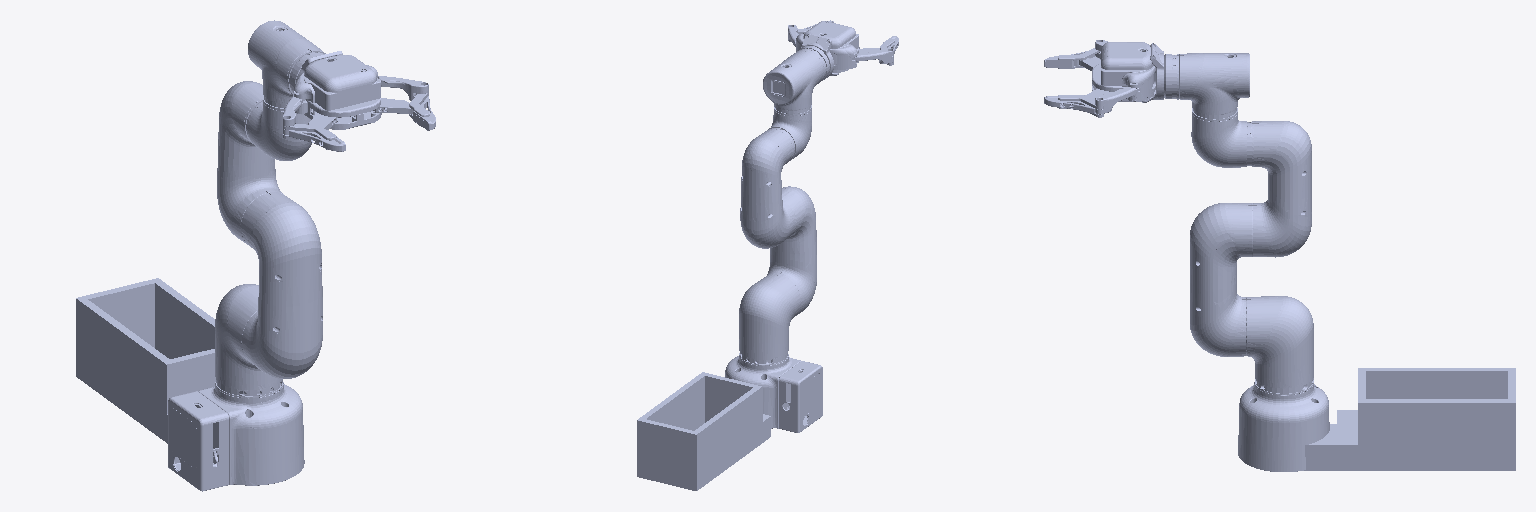
--- Facts derived from the render (not from the file) ---
The picture shows the robot from 3 angles, left to right: view 1: azimuth 30°, elevation 25°; view 2: azimuth 150°, elevation 25°; view 3: azimuth 270°, elevation 25°; orthographic projection.
Robot: firefighter — 14 links, 13 joints (12 revolute, 1 fixed); root link base; default pose: all joints at 0.
Links seen in each view (by area): view 1: base, link2, link3, gripper_base, link1, link5, link4, gripper_right1, gripper_left1, gripper_left2; view 2: base, link3, link1, link2, link5, gripper_base, link4; view 3: base, link2, link3, link1, link5, gripper_base, link4, gripper_left1, link6, gripper_right1, gripper_left2.
Boxes of the visible links, x1,y1,x2,y2 form: base: (76,278,304,491); link2: (241,192,322,378); link3: (217,81,283,244); gripper_base: (294,51,381,129); link1: (215,284,283,397); link5: (248,20,322,110); link4: (244,99,311,160); gripper_right1: (283,124,345,151); gripper_left1: (409,92,435,130); gripper_left2: (378,76,428,100); base: (637,356,822,490); link3: (740,129,795,248); link1: (739,274,800,365); link2: (767,186,816,315); link5: (763,50,823,115); gripper_base: (796,21,859,79); link4: (768,110,811,160); base: (1238,368,1515,471); link2: (1190,203,1252,356); link3: (1253,121,1311,257); link1: (1246,296,1313,394); link5: (1179,53,1249,121); gripper_base: (1092,42,1163,102); link4: (1191,114,1253,167); gripper_left1: (1044,95,1103,117); link6: (1164,54,1178,99); gripper_right1: (1044,48,1100,68); gripper_left2: (1095,87,1139,114).
Size in the robot's own frame: 0.1838 by 0.597 by 0.5642 metres.
Meshes: 14 distinct files referenced, 14 mesh visuals loaded (14 binary STL).

The robot description file, URDF, robot "firefighter":
<?xml version="1.0" encoding="utf-8" ?>
<!-- This URDF was automatically created by SolidWorks to URDF Exporter! Originally created by Stephen Brawner ([email redacted]) 
     Commit Version: 1.6.0-4-g7f85cfe  Build Version: 1.6.7995.38578
     For more information, please see http://wiki.ros.org/sw_urdf_exporter -->
<robot name="firefighter">
    <link name="base">
        <inertial>
            <origin xyz="-0.00864769316998017 -0.000126921894666568 0.0501201845931417" rpy="0 0 0" />
            <mass value="0.569705987965091" />
            <inertia ixx="0.000854432594096124" ixy="-7.93241309123687E-08" ixz="2.27885992319387E-05" iyy="0.000773078438855188" iyz="-1.68198685336369E-07" izz="0.000636475137447579" />
        </inertial>
        <visual>
            <origin xyz="0 0 0" rpy="0 0 0" />
            <geometry>
                <mesh filename="package://mycobot_description/meshes/base.STL" />
            </geometry>
            <material name="">
                <color rgba="0.792156862745098 0.819607843137255 0.933333333333333 1" />
            </material>
        </visual>
        <collision>
            <origin xyz="0 0 0" rpy="0 0 0" />
            <geometry>
                <mesh filename="package://mycobot_description/meshes/base.STL" />
            </geometry>
        </collision>
    </link>
    <link name="link1">
        <inertial>
            <origin xyz="6.42815852598767E-05 -0.0230239649053972 0.0693818276658632" rpy="0 0 0" />
            <mass value="0.301879423847794" />
            <inertia ixx="0.000409306626425588" ixy="2.64185243073395E-07" ixz="-3.05907154997551E-07" iyy="0.000350087269557055" iyz="5.69642041944812E-05" izz="0.000305846033387801" />
        </inertial>
        <visual>
            <origin xyz="0 0 0" rpy="0 0 0" />
            <geometry>
                <mesh filename="package://mycobot_description/meshes/link1.STL" />
            </geometry>
            <material name="">
                <color rgba="0.792156862745098 0.819607843137255 0.933333333333333 1" />
            </material>
        </visual>
        <collision>
            <origin xyz="0 0 0" rpy="0 0 0" />
            <geometry>
                <mesh filename="package://mycobot_description/meshes/link1.STL" />
            </geometry>
        </collision>
    </link>
    <joint name="joint2_to_joint1" type="revolute">
        <origin xyz="0 4.6911E-05 0.0967" rpy="0 0 0" />
        <parent link="base" />
        <child link="link1" />
        <axis xyz="0 0 1" />
        <limit lower="-2.79" upper="2.77" effort="1000" velocity="0" />
    </joint>
    <link name="link2">
        <inertial>
            <origin xyz="-3.8732097148434E-05 0.0813802127869527 0.0283592858310464" rpy="0 0 0" />
            <mass value="0.369827129518453" />
            <inertia ixx="0.00136957228770117" ixy="4.19538544428881E-07" ixz="3.17080019656995E-07" iyy="0.000219952916069171" iyz="0.000122748887363012" izz="0.00143836506882387" />
        </inertial>
        <visual>
            <origin xyz="0 0 0" rpy="0 0 0" />
            <geometry>
                <mesh filename="package://mycobot_description/meshes/link2.STL" />
            </geometry>
            <material name="">
                <color rgba="0.792156862745098 0.819607843137255 0.933333333333333 1" />
            </material>
        </visual>
        <collision>
            <origin xyz="0 0 0" rpy="0 0 0" />
            <geometry>
                <mesh filename="package://mycobot_description/meshes/link2.STL" />
            </geometry>
        </collision>
    </link>
    <joint name="joint3_to_joint2" type="revolute">
        <origin xyz="0 -0.048047 0.078684" rpy="1.5708 0 0" />
        <parent link="link1" />
        <child link="link2" />
        <axis xyz="0 0 1" />
        <limit lower="-2.79" upper="2.77" effort="1000" velocity="0" />
    </joint>
    <link name="link3">
        <inertial>
            <origin xyz="0.000129635471397599 -0.0514280884168447 0.0325289693692355" rpy="0 0 0" />
            <mass value="0.30126647543849" />
            <inertia ixx="0.000970409527348005" ixy="2.55329347120903E-06" ixz="7.42273996540422E-08" iyy="0.000146256008435835" iyz="9.03013147250893E-06" izz="0.00101269568666445" />
        </inertial>
        <visual>
            <origin xyz="0 0 0" rpy="0 0 0" />
            <geometry>
                <mesh filename="package://mycobot_description/meshes/link3.STL" />
            </geometry>
            <material name="">
                <color rgba="0.792156862745098 0.819607843137255 0.933333333333333 1" />
            </material>
        </visual>
        <collision>
            <origin xyz="0 0 0" rpy="0 0 0" />
            <geometry>
                <mesh filename="package://mycobot_description/meshes/link3.STL" />
            </geometry>
        </collision>
    </link>
    <joint name="joint4_to_joint3" type="revolute">
        <origin xyz="0 0.13484 -0.00812" rpy="3.1416 0 0" />
        <parent link="link2" />
        <child link="link3" />
        <axis xyz="0 0 -1" />
        <limit lower="-2.79" upper="2.77" effort="1000" velocity="0" />
    </joint>
    <link name="link4">
        <inertial>
            <origin xyz="-0.000265442246032262 0.0132454430927216 0.0353293831856391" rpy="0 0 0" />
            <mass value="0.13863929662837" />
            <inertia ixx="0.000124610417603017" ixy="4.88764159313975E-08" ixz="4.93244209868399E-07" iyy="0.00010305423584359" iyz="-2.74497950589119E-05" izz="9.07985514470042E-05" />
        </inertial>
        <visual>
            <origin xyz="0 0 0" rpy="0 0 0" />
            <geometry>
                <mesh filename="package://mycobot_description/meshes/link4.STL" />
            </geometry>
            <material name="">
                <color rgba="0.792156862745098 0.819607843137255 0.933333333333333 1" />
            </material>
        </visual>
        <collision>
            <origin xyz="0 0 0" rpy="0 0 0" />
            <geometry>
                <mesh filename="package://mycobot_description/meshes/link4.STL" />
            </geometry>
        </collision>
    </link>
    <joint name="joint5_to_joint4" type="revolute">
        <origin xyz="0 -0.12001 0.0019" rpy="3.1416 0 0" />
        <parent link="link3" />
        <child link="link4" />
        <axis xyz="0 0 1" />
        <limit lower="-2.79" upper="2.77" effort="1000" velocity="0" />
    </joint>
    <link name="link5">
        <inertial>
            <origin xyz="2.9396531990803E-06 -0.00706335171774512 0.0410111456222784" rpy="0 0 0" />
            <mass value="0.223950798436051" />
            <inertia ixx="0.000190772660755612" ixy="-1.55601593022745E-08" ixz="1.18753345947016E-08" iyy="0.000150100995863217" iyz="1.22311889040458E-05" izz="0.000145172983097813" />
        </inertial>
        <visual>
            <origin xyz="0 0 0" rpy="0 0 0" />
            <geometry>
                <mesh filename="package://mycobot_description/meshes/link5.STL" />
            </geometry>
            <material name="">
                <color rgba="0.792156862745098 0.819607843137255 0.933333333333333 1" />
            </material>
        </visual>
        <collision>
            <origin xyz="0 0 0" rpy="0 0 0" />
            <geometry>
                <mesh filename="package://mycobot_description/meshes/link5.STL" />
            </geometry>
        </collision>
    </link>
    <joint name="joint6_to_joint5" type="revolute">
        <origin xyz="0 0.045161 0.049475" rpy="-1.5708 0 0" />
        <parent link="link4" />
        <child link="link5" />
        <axis xyz="0 0 1" />
        <limit lower="-2.79" upper="2.77" effort="1000" velocity="0" />
    </joint>
    <link name="link6">
        <inertial>
            <origin xyz="-5.28728390771817E-08 -0.0101993384758529 6.2341436382507E-05" rpy="0 0 0" />
            <mass value="0.0401030543253865" />
            <inertia ixx="9.67629236940541E-06" ixy="1.09152050946117E-12" ixz="-1.32278192660942E-10" iyy="1.75125666482583E-05" iyz="-2.04538907434154E-08" izz="9.81088755486916E-06" />
        </inertial>
        <visual>
            <origin xyz="0 0 0" rpy="0 0 0" />
            <geometry>
                <mesh filename="package://mycobot_description/meshes/link6.STL" />
            </geometry>
            <material name="">
                <color rgba="0.792156862745098 0.819607843137255 0.933333333333333 1" />
            </material>
        </visual>
        <collision>
            <origin xyz="0 0 0" rpy="0 0 0" />
            <geometry>
                <mesh filename="package://mycobot_description/meshes/link6.STL" />
            </geometry>
        </collision>
    </link>
    <joint name="joint6output_to_joint6" type="revolute">
        <origin xyz="0 -0.045225 0.049538" rpy="0 0 0" />
        <parent link="link5" />
        <child link="link6" />
        <axis xyz="0 -1 0" />
        <limit lower="-2.79" upper="2.77" effort="1000" velocity="0" />
    </joint>
    <link name="gripper_base">
        <inertial>
            <origin xyz="-5.82011827390355E-05 -0.0395842301277559 0.0117304325050568" rpy="0 0 0" />
            <mass value="0.134693199310194" />
            <inertia ixx="6.63642413920495E-05" ixy="1.51876025813723E-07" ixz="-7.62878413369832E-08" iyy="9.17248597824894E-05" iyz="3.3582542827794E-06" izz="0.000116847671214262" />
        </inertial>
        <visual>
            <origin xyz="0 0 0" rpy="0 0 0" />
            <geometry>
                <mesh filename="package://mycobot_description/meshes/gripper_base.STL" />
            </geometry>
            <material name="">
                <color rgba="0.792156862745098 0.819607843137255 0.933333333333333 1" />
            </material>
        </visual>
        <collision>
            <origin xyz="0 0 0" rpy="0 0 0" />
            <geometry>
                <mesh filename="package://mycobot_description/meshes/gripper_base.STL" />
            </geometry>
        </collision>
    </link>
    <joint name="joint6output_to_gripper_base" type="fixed">
        <origin xyz="0 -0.0192 -0.00033122" rpy="0 0 0" />
        <parent link="link6" />
        <child link="gripper_base" />
        <axis xyz="0 0 0" />
    </joint>
    <link name="gripper_left3">
        <inertial>
            <origin xyz="0.0226302395978118 -0.0162791474027299 -0.00349934485691783" rpy="0 0 0" />
            <mass value="0.00821076219537903" />
            <inertia ixx="1.2485177455858E-06" ixy="8.09781134235172E-07" ixz="4.99374078979363E-11" iyy="1.06135520527004E-06" iyz="-5.72292215070849E-11" izz="2.24065608679425E-06" />
        </inertial>
        <visual>
            <origin xyz="0 0 0" rpy="0 0 0" />
            <geometry>
                <mesh filename="package://mycobot_description/meshes/gripper_left3.STL" />
            </geometry>
            <material name="">
                <color rgba="0.792156862745098 0.819607843137255 0.933333333333333 1" />
            </material>
        </visual>
        <collision>
            <origin xyz="0 0 0" rpy="0 0 0" />
            <geometry>
                <mesh filename="package://mycobot_description/meshes/gripper_left3.STL" />
            </geometry>
        </collision>
    </link>
    <joint name="gripper_controller" type="revolute">
        <origin xyz="0.01832 -0.0605 -0.0031487" rpy="0 0 0" />
        <parent link="gripper_base" />
        <child link="gripper_left3" />
        <axis xyz="0 0 -1" />
        <limit lower="0" upper="0.935" effort="1000" velocity="0" />
    </joint>
    <link name="gripper_left1">
        <inertial>
            <origin xyz="0.00525208932357365 -0.0110315332458481 -0.00363060785810465" rpy="0 0 0" />
            <mass value="0.0118729354178717" />
            <inertia ixx="3.52621996084497E-06" ixy="-1.57724711124296E-06" ixz="5.27198932193083E-10" iyy="1.31948154680161E-06" iyz="2.03089701593071E-09" izz="4.42845153747303E-06" />
        </inertial>
        <visual>
            <origin xyz="0 0 0" rpy="0 0 0" />
            <geometry>
                <mesh filename="package://mycobot_description/meshes/gripper_left1.STL" />
            </geometry>
            <material name="">
                <color rgba="0.792156862745098 0.819607843137255 0.933333333333333 1" />
            </material>
        </visual>
        <collision>
            <origin xyz="0 0 0" rpy="0 0 0" />
            <geometry>
                <mesh filename="package://mycobot_description/meshes/gripper_left1.STL" />
            </geometry>
        </collision>
    </link>
    <joint name="gripper_left3_to_gripper_left1" type="revolute">
        <origin xyz="0.042547 -0.043416 0" rpy="0 0 0" />
        <parent link="gripper_left3" />
        <child link="gripper_left1" />
        <axis xyz="0 0 -1" />
        <limit lower="0" upper="0" effort="0" velocity="0" />
        <mimic joint="gripper_controller" multiplier="-1" offset="0" />
    </joint>
    <link name="gripper_right3">
        <inertial>
            <origin xyz="-0.022630239599928 -0.0162791474080151 -0.00350065514251408" rpy="0 0 0" />
            <mass value="0.00821076219423197" />
            <inertia ixx="1.2485177453792E-06" ixy="-8.09781133876261E-07" ixz="4.99373689581492E-11" iyy="1.06135520477082E-06" iyz="5.72291827384158E-11" izz="2.24065608609472E-06" />
        </inertial>
        <visual>
            <origin xyz="0 0 0" rpy="0 0 0" />
            <geometry>
                <mesh filename="package://mycobot_description/meshes/gripper_right3.STL" />
            </geometry>
            <material name="">
                <color rgba="0.792156862745098 0.819607843137255 0.933333333333333 1" />
            </material>
        </visual>
        <collision>
            <origin xyz="0 0 0" rpy="0 0 0" />
            <geometry>
                <mesh filename="package://mycobot_description/meshes/gripper_right3.STL" />
            </geometry>
        </collision>
    </link>
    <joint name="gripper_base_to_gripper_right3" type="revolute">
        <origin xyz="-0.01832 -0.0605 -0.0031487" rpy="0 0 0" />
        <parent link="gripper_base" />
        <child link="gripper_right3" />
        <axis xyz="0 0 1" />
        <limit lower="0" upper="0" effort="0" velocity="0" />
        <mimic joint="gripper_controller" multiplier="1" offset="0" />
    </joint>
    <link name="gripper_right1">
        <inertial>
            <origin xyz="-0.00525208920804537 -0.0110315062434416 -0.00363101216322048" rpy="0 0 0" />
            <mass value="0.0118729654266671" />
            <inertia ixx="3.52622398230067E-06" ixy="1.57724681013031E-06" ixz="-4.9817191189659E-10" iyy="1.31948012168741E-06" iyz="2.04902726843365E-09" izz="4.42845115973961E-06" />
        </inertial>
        <visual>
            <origin xyz="0 0 0" rpy="0 0 0" />
            <geometry>
                <mesh filename="package://mycobot_description/meshes/gripper_right1.STL" />
            </geometry>
            <material name="">
                <color rgba="0.792156862745098 0.819607843137255 0.933333333333333 1" />
            </material>
        </visual>
        <collision>
            <origin xyz="0 0 0" rpy="0 0 0" />
            <geometry>
                <mesh filename="package://mycobot_description/meshes/gripper_right1.STL" />
            </geometry>
        </collision>
    </link>
    <joint name="gripper_right3_to_gripper_right1" type="revolute">
        <origin xyz="-0.042547 -0.043416 0" rpy="0 0 0" />
        <parent link="gripper_right3" />
        <child link="gripper_right1" />
        <axis xyz="0 0 1" />
        <limit lower="0" upper="0" effort="0" velocity="0" />
        <mimic joint="gripper_controller" multiplier="-1" offset="0" />
    </joint>
    <link name="gripper_left2">
        <inertial>
            <origin xyz="0.0257257175024281 -0.0243170829332868 -0.00353518710331435" rpy="0 0 0" />
            <mass value="0.006629345599262" />
            <inertia ixx="1.54838939464275E-06" ixy="1.06904058595467E-06" ixz="1.22841067283177E-07" iyy="1.113677199351E-06" iyz="-1.49270745294629E-07" izz="2.38640817257846E-06" />
        </inertial>
        <visual>
            <origin xyz="0 0 0" rpy="0 0 0" />
            <geometry>
                <mesh filename="package://mycobot_description/meshes/gripper_left2.STL" />
            </geometry>
            <material name="">
                <color rgba="0.792156862745098 0.819607843137255 0.933333333333333 1" />
            </material>
        </visual>
        <collision>
            <origin xyz="0 0 0" rpy="0 0 0" />
            <geometry>
                <mesh filename="package://mycobot_description/meshes/gripper_left2.STL" />
            </geometry>
        </collision>
    </link>
    <joint name="gripper_base_to_gripper_left2" type="revolute">
        <origin xyz="0.044392 -0.038185 0.0073513" rpy="0 0 0" />
        <parent link="gripper_base" />
        <child link="gripper_left2" />
        <axis xyz="0 0 1" />
        <limit lower="0" upper="0" effort="0" velocity="0" />
        <mimic joint="gripper_controller" multiplier="-1" offset="0" />
    </joint>
    <link name="gripper_right2">
        <inertial>
            <origin xyz="-0.0257258142208707 -0.024317201005185 -0.00353536942049104" rpy="0 0 0" />
            <mass value="0.00662949167728877" />
            <inertia ixx="1.54840242441931E-06" ixy="-1.0690432600129E-06" ixz="-1.22846546233924E-07" iyy="1.11368554759554E-06" iyz="-1.49269543003446E-07" izz="2.38641996651127E-06" />
        </inertial>
        <visual>
            <origin xyz="0 0 0" rpy="0 0 0" />
            <geometry>
                <mesh filename="package://mycobot_description/meshes/gripper_right2.STL" />
            </geometry>
            <material name="">
                <color rgba="0.792156862745098 0.819607843137255 0.933333333333333 1" />
            </material>
        </visual>
        <collision>
            <origin xyz="0 0 0" rpy="0 0 0" />
            <geometry>
                <mesh filename="package://mycobot_description/meshes/gripper_right2.STL" />
            </geometry>
        </collision>
    </link>
    <joint name="gripper_base_to_gripper_right2" type="revolute">
        <origin xyz="-0.044392 -0.038185 0.0073513" rpy="0 0 0" />
        <parent link="gripper_base" />
        <child link="gripper_right2" />
        <axis xyz="0 0 1" />
        <limit lower="0" upper="0" effort="0" velocity="0" />
        <mimic joint="gripper_controller" multiplier="1" offset="0" />
    </joint>
    <transmission name="trans_joint2_to_joint1">
        <type>transmission_interface/SimpleTransmission</type>
        <joint name="joint2_to_joint1">
            <hardwareInterface>hardware_interface/EffortJointInterface</hardwareInterface>
        </joint>
        <actuator name="joint2_to_joint1_motor">
            <hardwareInterface>hardware_interface/EffortJointInterface</hardwareInterface>
            <mechanicalReduction>1</mechanicalReduction>
        </actuator>
    </transmission>
    <transmission name="trans_joint3_to_joint2">
        <type>transmission_interface/SimpleTransmission</type>
        <joint name="joint3_to_joint2">
            <hardwareInterface>hardware_interface/EffortJointInterface</hardwareInterface>
        </joint>
        <actuator name="joint3_to_joint2_motor">
            <hardwareInterface>hardware_interface/EffortJointInterface</hardwareInterface>
            <mechanicalReduction>1</mechanicalReduction>
        </actuator>
    </transmission>
    <transmission name="trans_joint4_to_joint3">
        <type>transmission_interface/SimpleTransmission</type>
        <joint name="joint4_to_joint3">
            <hardwareInterface>hardware_interface/EffortJointInterface</hardwareInterface>
        </joint>
        <actuator name="joint4_to_joint3_motor">
            <hardwareInterface>hardware_interface/EffortJointInterface</hardwareInterface>
            <mechanicalReduction>1</mechanicalReduction>
        </actuator>
    </transmission>
    <transmission name="trans_joint5_to_joint4">
        <type>transmission_interface/SimpleTransmission</type>
        <joint name="joint5_to_joint4">
            <hardwareInterface>hardware_interface/EffortJointInterface</hardwareInterface>
        </joint>
        <actuator name="joint5_to_joint4_motor">
            <hardwareInterface>hardware_interface/EffortJointInterface</hardwareInterface>
            <mechanicalReduction>1</mechanicalReduction>
        </actuator>
    </transmission>
    <transmission name="trans_joint6_to_joint5">
        <type>transmission_interface/SimpleTransmission</type>
        <joint name="joint6_to_joint5">
            <hardwareInterface>hardware_interface/EffortJointInterface</hardwareInterface>
        </joint>
        <actuator name="joint6_to_joint5_motor">
            <hardwareInterface>hardware_interface/EffortJointInterface</hardwareInterface>
            <mechanicalReduction>1</mechanicalReduction>
        </actuator>
    </transmission>
    <transmission name="trans_joint6output_to_joint6">
        <type>transmission_interface/SimpleTransmission</type>
        <joint name="joint6output_to_joint6">
            <hardwareInterface>hardware_interface/EffortJointInterface</hardwareInterface>
        </joint>
        <actuator name="joint6output_to_joint6_motor">
            <hardwareInterface>hardware_interface/EffortJointInterface</hardwareInterface>
            <mechanicalReduction>1</mechanicalReduction>
        </actuator>
    </transmission>
    <transmission name="trans_gripper_controller">
        <type>transmission_interface/SimpleTransmission</type>
        <joint name="gripper_controller">
            <hardwareInterface>hardware_interface/EffortJointInterface</hardwareInterface>
        </joint>
        <actuator name="gripper_controller_motor">
            <hardwareInterface>hardware_interface/EffortJointInterface</hardwareInterface>
            <mechanicalReduction>1</mechanicalReduction>
        </actuator>
    </transmission>
    <transmission name="trans_gripper_left3_to_gripper_left1">
        <type>transmission_interface/SimpleTransmission</type>
        <joint name="gripper_left3_to_gripper_left1">
            <hardwareInterface>hardware_interface/EffortJointInterface</hardwareInterface>
        </joint>
        <actuator name="gripper_left3_to_gripper_left1_motor">
            <hardwareInterface>hardware_interface/EffortJointInterface</hardwareInterface>
            <mechanicalReduction>1</mechanicalReduction>
        </actuator>
    </transmission>
    <transmission name="trans_gripper_base_to_gripper_right3">
        <type>transmission_interface/SimpleTransmission</type>
        <joint name="gripper_base_to_gripper_right3">
            <hardwareInterface>hardware_interface/EffortJointInterface</hardwareInterface>
        </joint>
        <actuator name="gripper_base_to_gripper_right3_motor">
            <hardwareInterface>hardware_interface/EffortJointInterface</hardwareInterface>
            <mechanicalReduction>1</mechanicalReduction>
        </actuator>
    </transmission>
    <transmission name="trans_gripper_right3_to_gripper_right1">
        <type>transmission_interface/SimpleTransmission</type>
        <joint name="gripper_right3_to_gripper_right1">
            <hardwareInterface>hardware_interface/EffortJointInterface</hardwareInterface>
        </joint>
        <actuator name="gripper_right3_to_gripper_right1_motor">
            <hardwareInterface>hardware_interface/EffortJointInterface</hardwareInterface>
            <mechanicalReduction>1</mechanicalReduction>
        </actuator>
    </transmission>
    <transmission name="trans_gripper_base_to_gripper_left2">
        <type>transmission_interface/SimpleTransmission</type>
        <joint name="gripper_base_to_gripper_left2">
            <hardwareInterface>hardware_interface/EffortJointInterface</hardwareInterface>
        </joint>
        <actuator name="gripper_base_to_gripper_left2_motor">
            <hardwareInterface>hardware_interface/EffortJointInterface</hardwareInterface>
            <mechanicalReduction>1</mechanicalReduction>
        </actuator>
    </transmission>
    <transmission name="trans_gripper_base_to_gripper_right2">
        <type>transmission_interface/SimpleTransmission</type>
        <joint name="gripper_base_to_gripper_right2">
            <hardwareInterface>hardware_interface/EffortJointInterface</hardwareInterface>
        </joint>
        <actuator name="gripper_base_to_gripper_right2_motor">
            <hardwareInterface>hardware_interface/EffortJointInterface</hardwareInterface>
            <mechanicalReduction>1</mechanicalReduction>
        </actuator>
    </transmission>
    <gazebo>
        <plugin name="gazebo_ros_control">
            <robotNamespace>/</robotNamespace>
        </plugin>
    </gazebo>
</robot>
